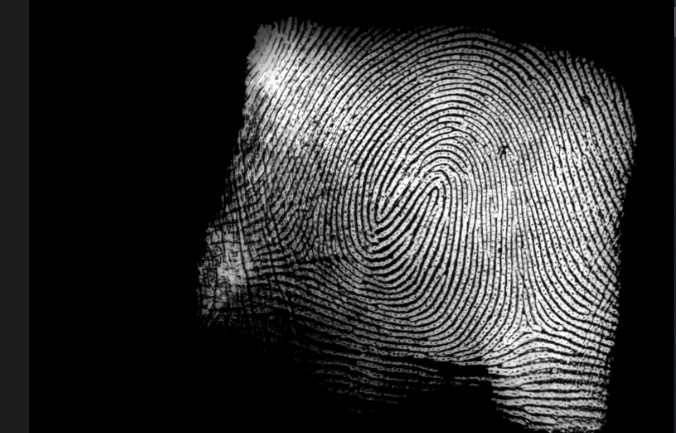deltas: (501, 294, 553, 348), (287, 231, 337, 285)
nucleo: (404, 165, 457, 222)
